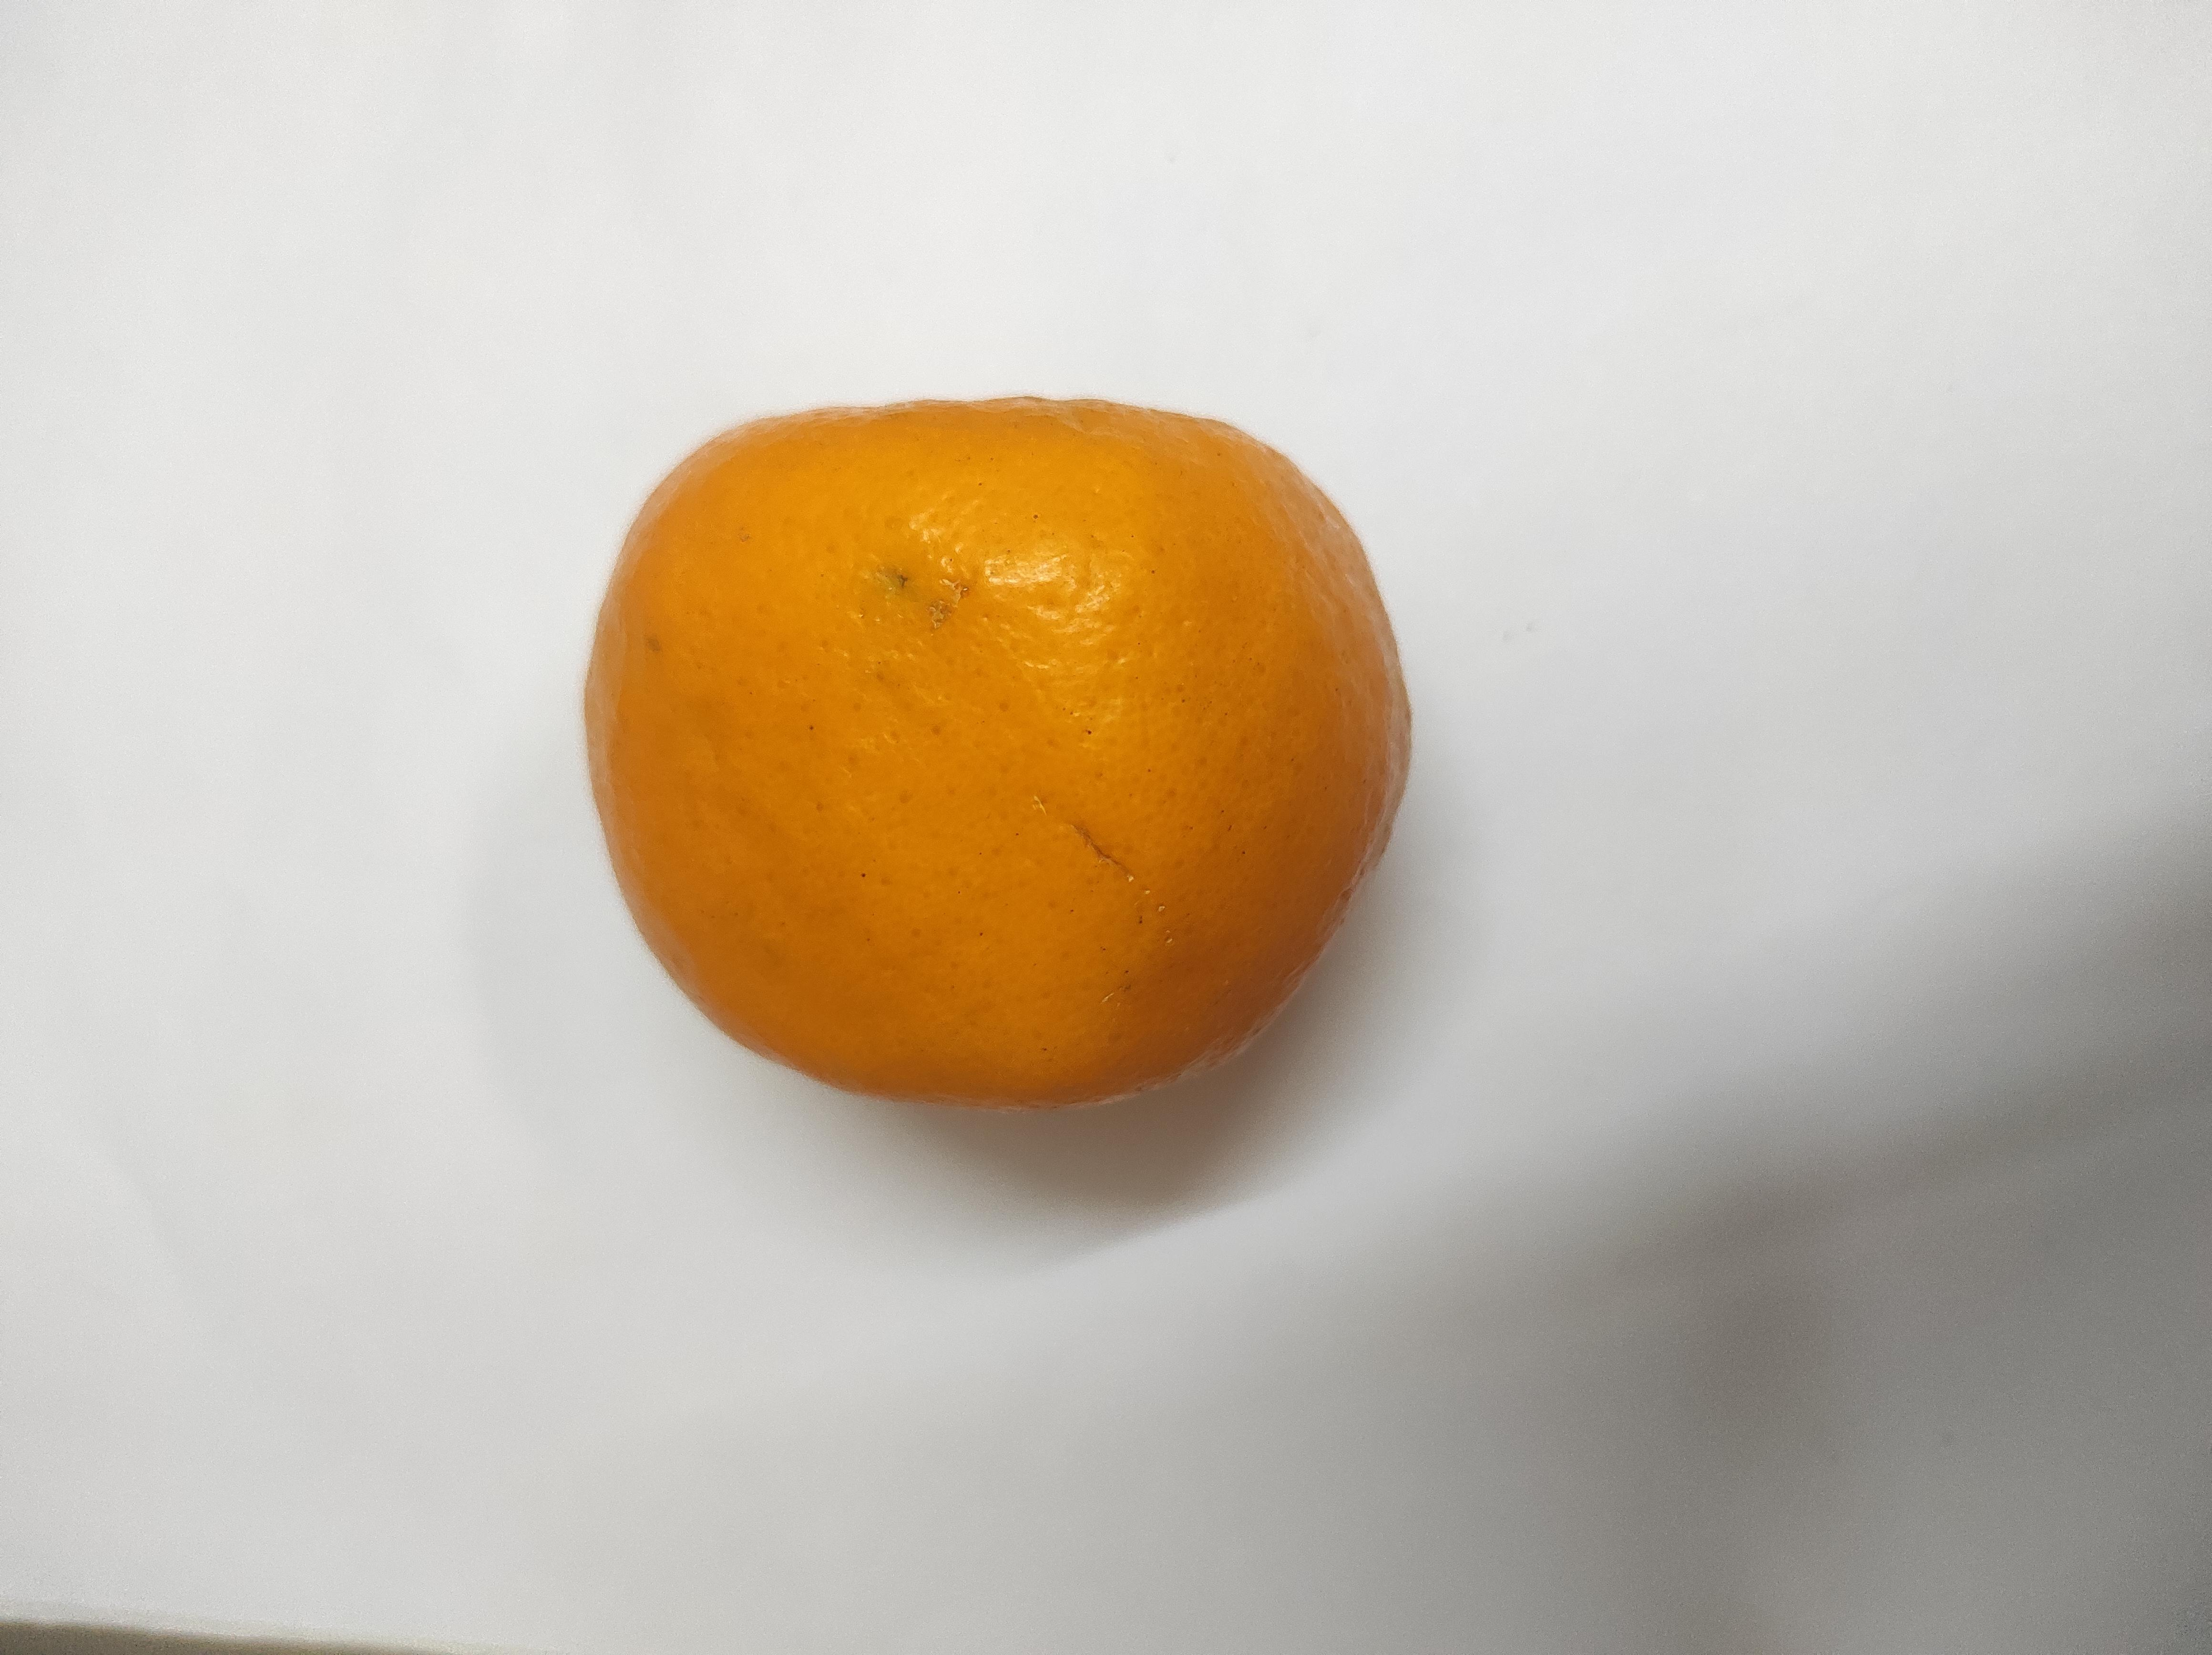Unripe: (572, 386, 1407, 1106)
